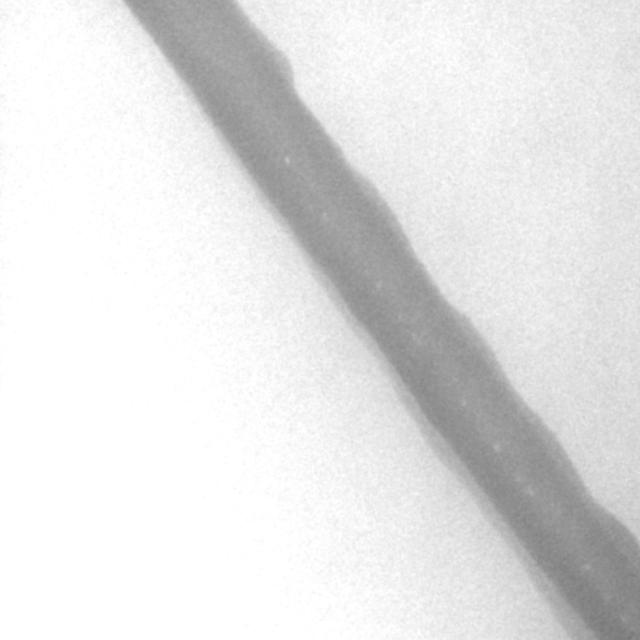air hole: (579, 559, 592, 574), (457, 396, 468, 408), (490, 441, 500, 454), (282, 153, 290, 165)
